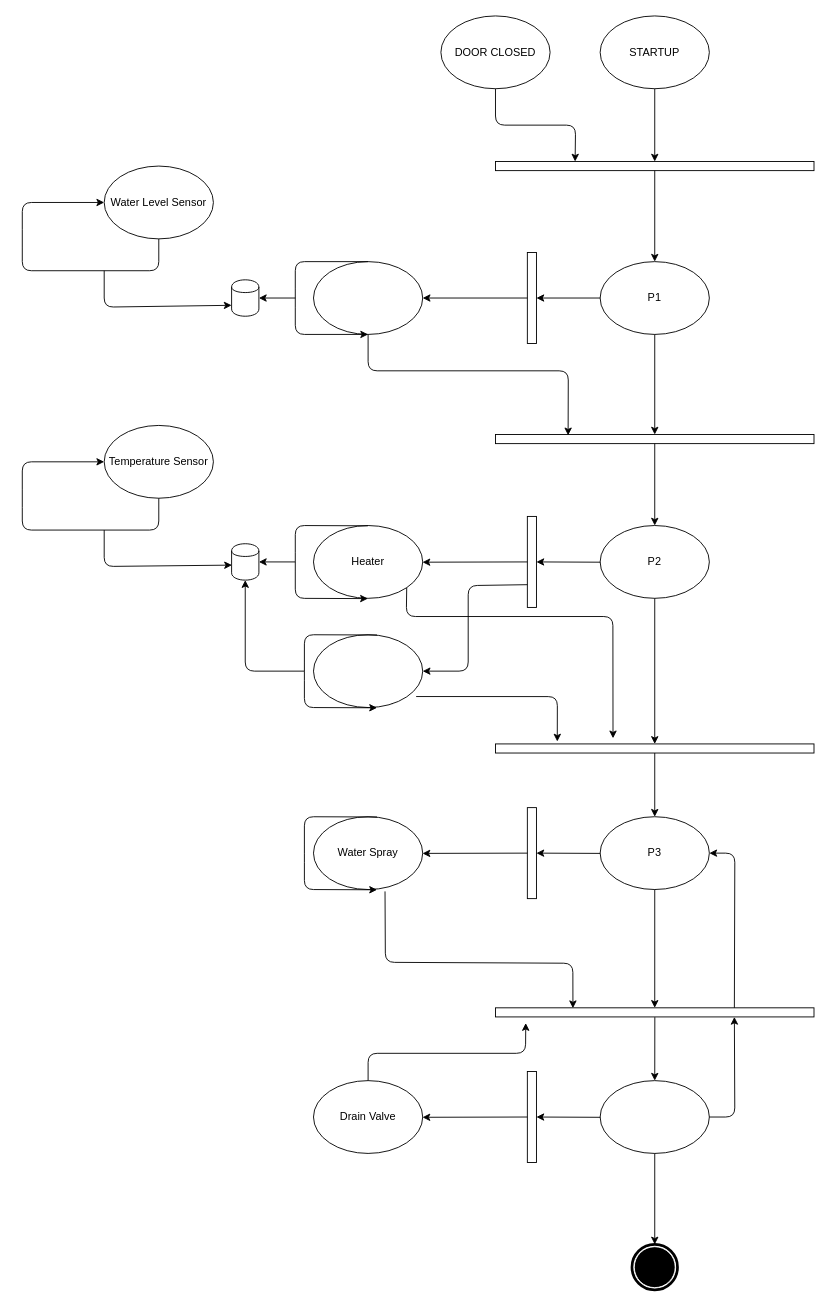
Image size: 830x1306. Some labels were removed from this diagram. Here are the shapes that lost their labels. From the top down, the centre of each, then its label:
(x=368, y=297): Water Pump
(x=368, y=671): Detergent Dispenser
(x=654, y=1116): P4
